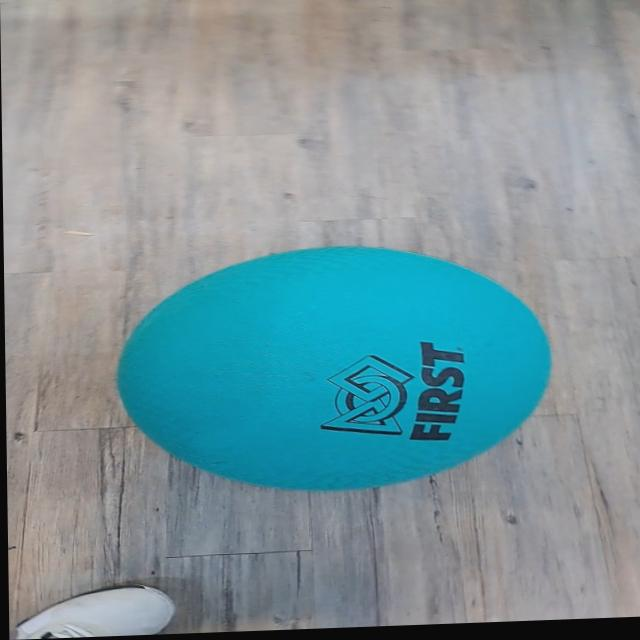ALGAE: (111, 237, 556, 500)
